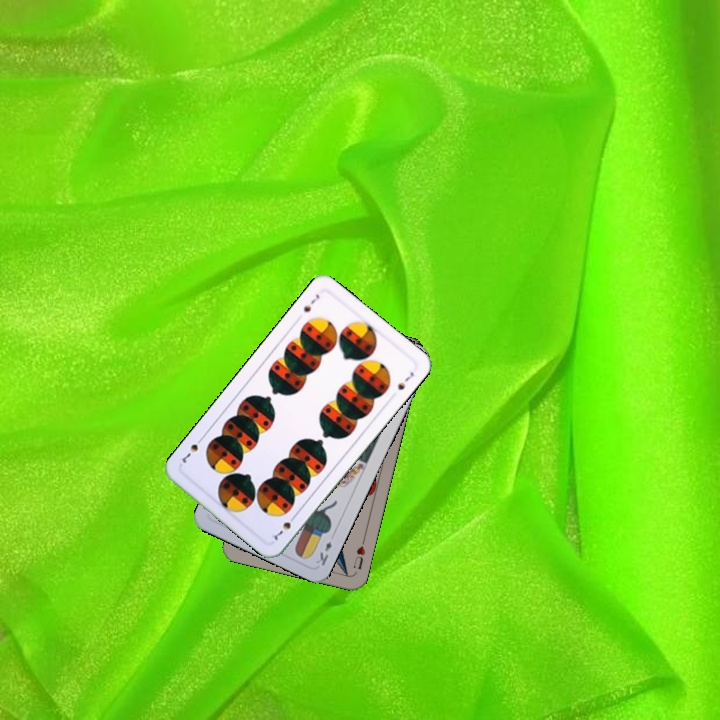EK: (312, 537, 334, 568)
HU: (349, 535, 368, 572)
S7: (267, 510, 299, 543), (299, 290, 322, 315)
